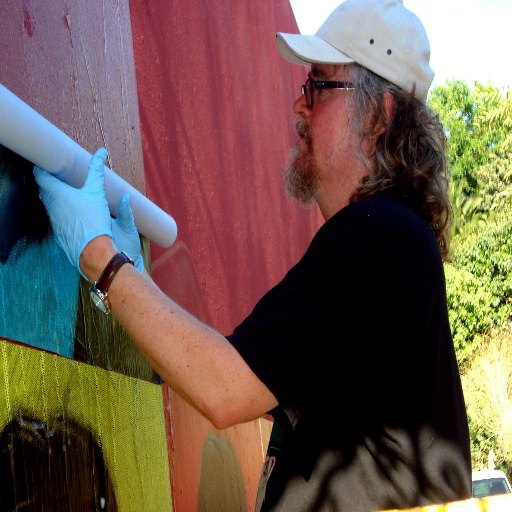hand: (29, 154, 121, 275), (109, 189, 145, 269)
